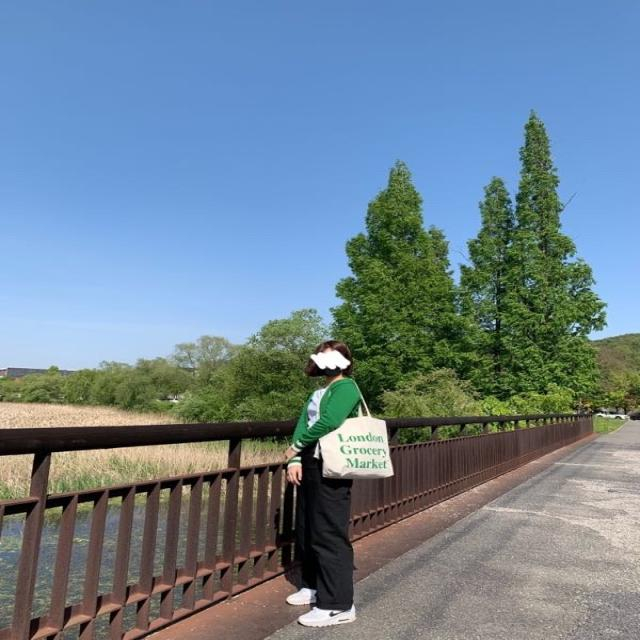cardigan: (287, 375, 364, 459)
slacks: (290, 451, 354, 611)
